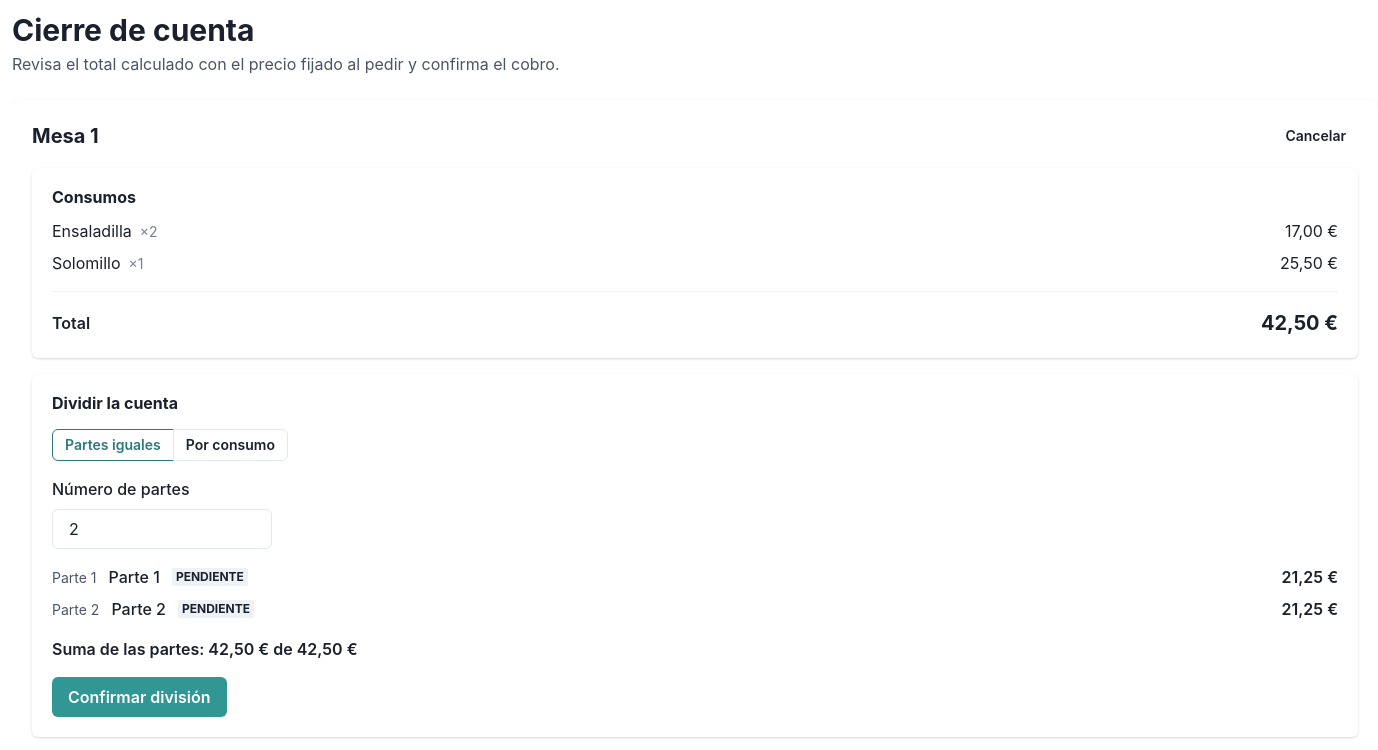
Scenario: CierreCuenta (US2) › recarga la cuenta si la división detecta un total desactualizado
Click the button "Confirmar división".
click(139, 697)  # box [52,677,227,717]
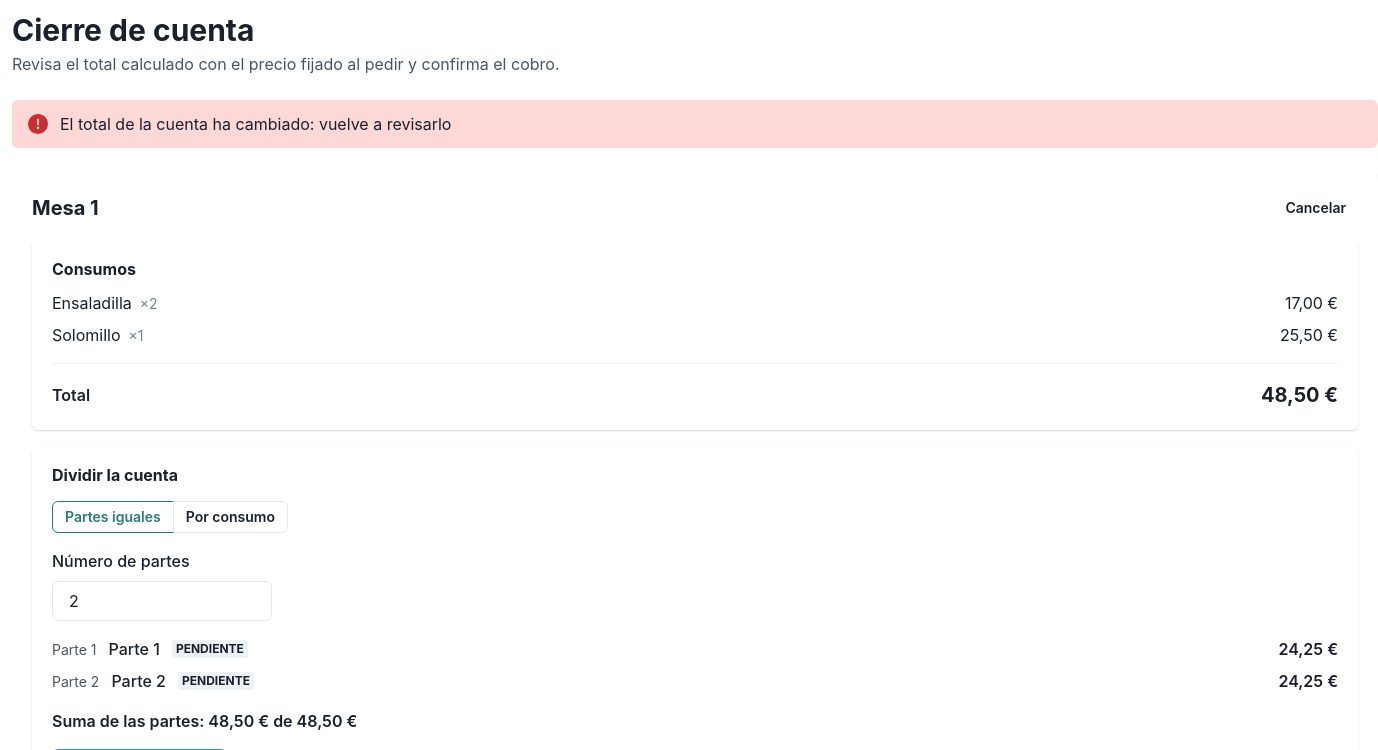
Expected: the heading "Dividir la cuenta" is shown, [52,465,178,485]
Now the text "El total de la cuenta ha cambiado: vuelve a revisarlo" is shown, box [60,112,451,136]
